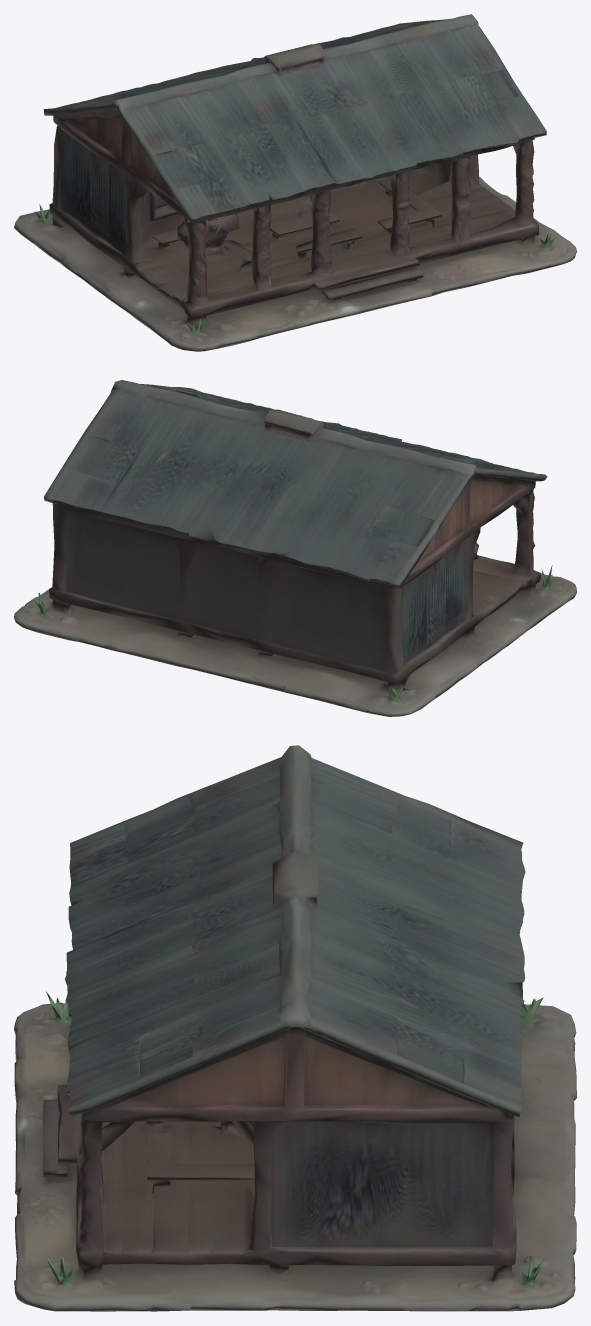
The model's file is traditional_council_main.glb.
3 renders of one model, top to bottom at view 1: azimuth 30°, elevation 25°; view 2: azimuth 150°, elevation 25°; view 3: azimuth 270°, elevation 25°, orthographic. The views are drawn at different scales.
Parts seen in each view (by area): view 1: tripo_node_5febd8af-3573-4a7d-894b-82336f40a7be; view 2: tripo_node_5febd8af-3573-4a7d-894b-82336f40a7be; view 3: tripo_node_5febd8af-3573-4a7d-894b-82336f40a7be.
Part boxes in pixels (left/top/right/bottom): tripo_node_5febd8af-3573-4a7d-894b-82336f40a7be: left=14, top=14, right=576, bottom=351; tripo_node_5febd8af-3573-4a7d-894b-82336f40a7be: left=14, top=380, right=576, bottom=716; tripo_node_5febd8af-3573-4a7d-894b-82336f40a7be: left=14, top=745, right=576, bottom=1311.
Size of the model in its own units: 1 by 0.453 by 0.7881.
1 material, 1 textured.
